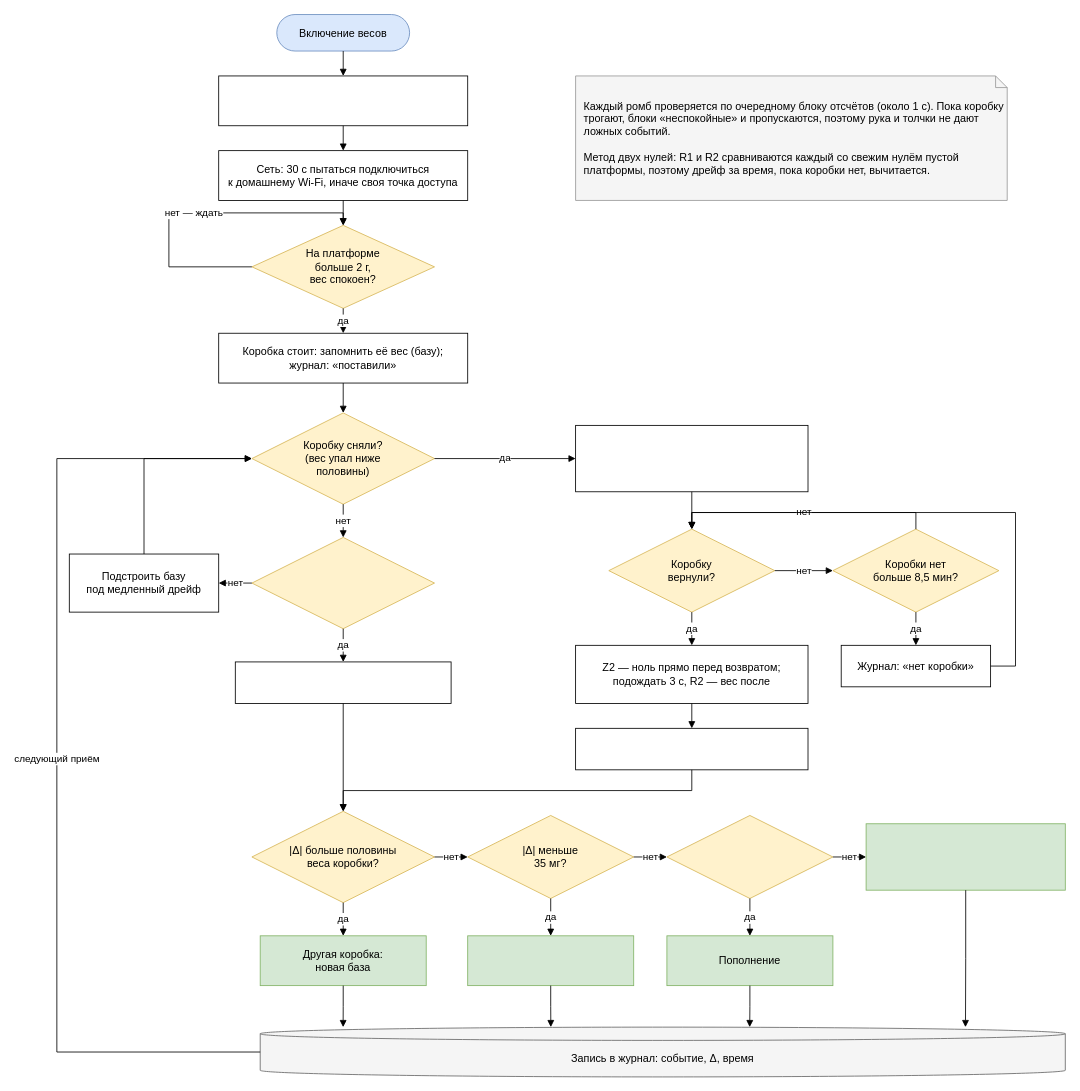
This 1080x1091 diagram has some shape labels left out. The centre of each missing label's shape, as x and y in pixels:
Δ = (R2 − Z2) − (R1 − Z1): the point at 691,748
Δ = новый вес − прежний: the point at 342,682
Δ больше нуля?: the point at 749,856
Вес изменился на 35 мг и больше и установился?: the point at 343,583
Доза: совпала с выученным видом — вид подтверждён, иначе — новый вид: the point at 965,856
Журнал: «сняли». R1 — вес коробки до, Z1 — ноль пустой платформы: the point at 691,458
Загрузить калибровку и выученные виды доз; журнал: «включение»: the point at 343,100
Ничего не взяли: the point at 550,960
